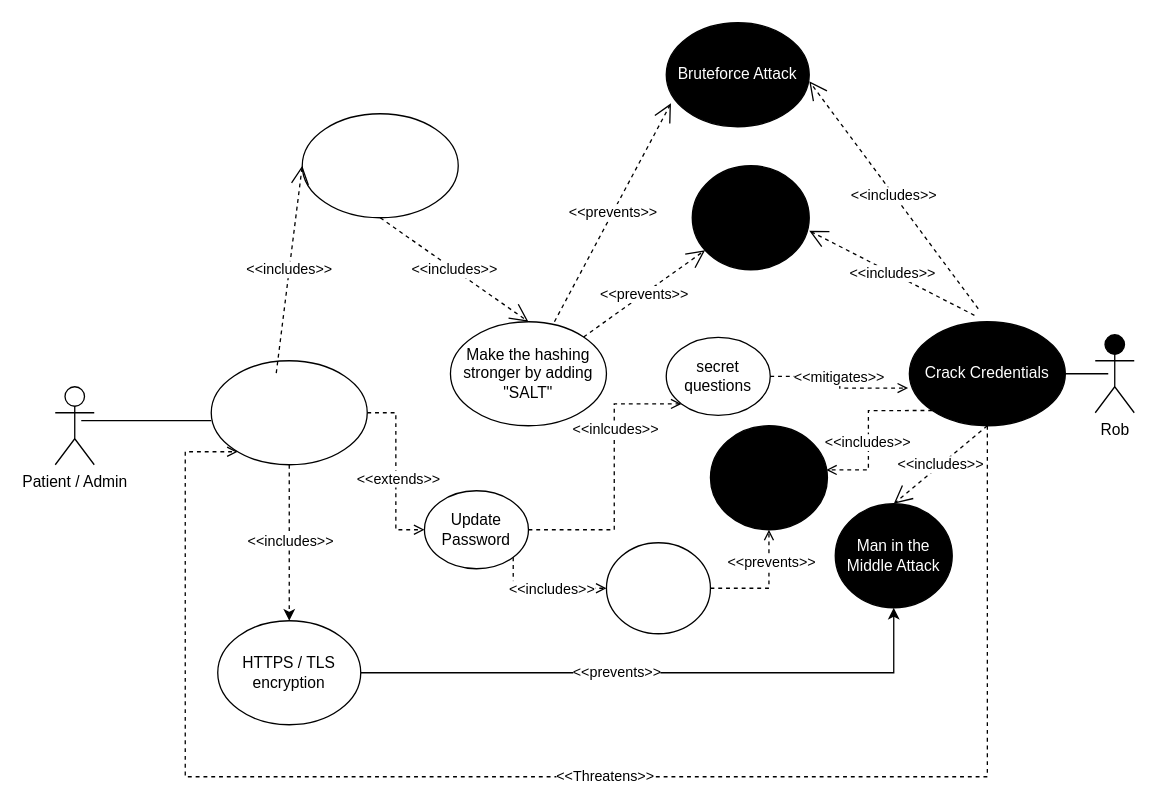
Image size: 1157x810. Some labels were removed from this diagram. The shapes that lost their labels are listed below. From the top down, each one's centre as x and y in pixels, then its label:
At point (379, 165): "Encrypt password".
At point (750, 217): "Rainbow Attack".
At point (288, 412): "Login".
At point (768, 477): "Dictionary Attack".
At point (657, 587): "Enforce strong password policy".
